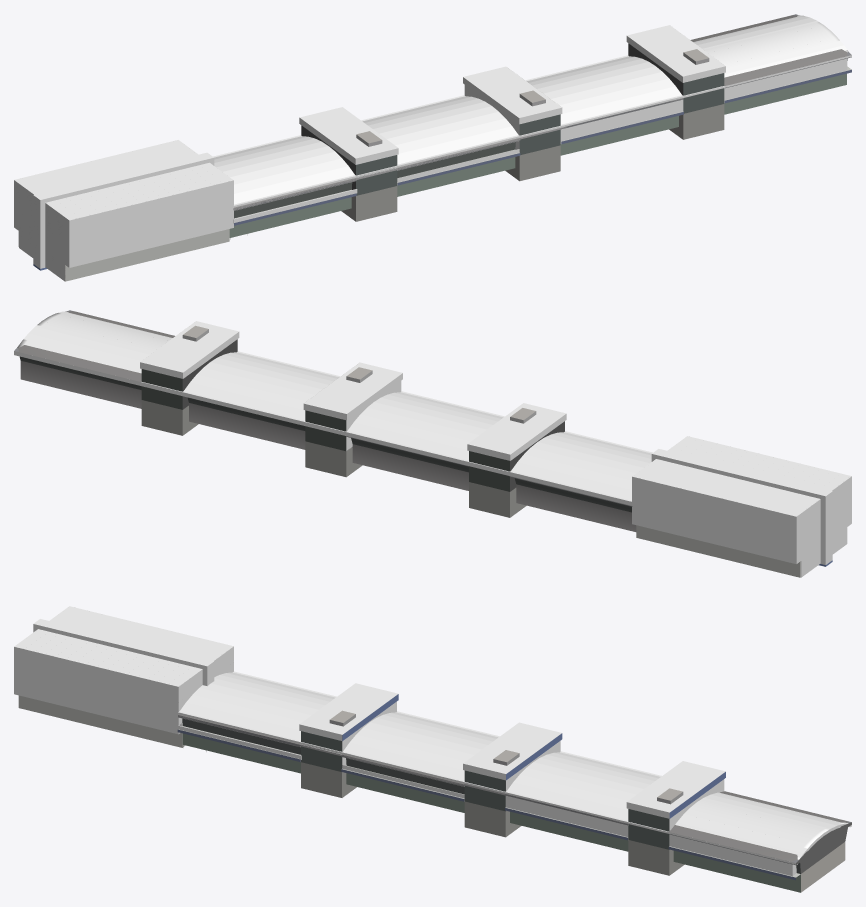
File: pitlane_buildings.dae
3 renders of one model, top to bottom at view 1: azimuth 30°, elevation 25°; view 2: azimuth 150°, elevation 25°; view 3: azimuth 330°, elevation 25°, orthographic.
Visible parts, largest first — view 1: Colmesh_pitlane_buildings-1, pitlane_buildings_a500, pitlane_buildings_a2000, pitlane_buildings_a1000; view 2: Colmesh_pitlane_buildings-1, pitlane_buildings_a500, pitlane_buildings_a2000, pitlane_buildings_a1000; view 3: Colmesh_pitlane_buildings-1, pitlane_buildings_a500, pitlane_buildings_a1000, pitlane_buildings_a2000.
Part boxes in pixels (<box>): Colmesh_pitlane_buildings-1: <box>14,16,851,279</box>; pitlane_buildings_a500: <box>18,14,851,281</box>; pitlane_buildings_a2000: <box>19,15,848,281</box>; pitlane_buildings_a1000: <box>65,15,847,281</box>; Colmesh_pitlane_buildings-1: <box>14,311,851,564</box>; pitlane_buildings_a500: <box>14,310,832,577</box>; pitlane_buildings_a2000: <box>17,311,847,577</box>; pitlane_buildings_a1000: <box>18,311,535,420</box>; Colmesh_pitlane_buildings-1: <box>14,606,851,876</box>; pitlane_buildings_a500: <box>18,695,851,892</box>; pitlane_buildings_a1000: <box>178,694,847,864</box>; pitlane_buildings_a2000: <box>178,646,847,859</box>.
Bounding box in the file's own units: 231 × 28.57 × 21.13.
